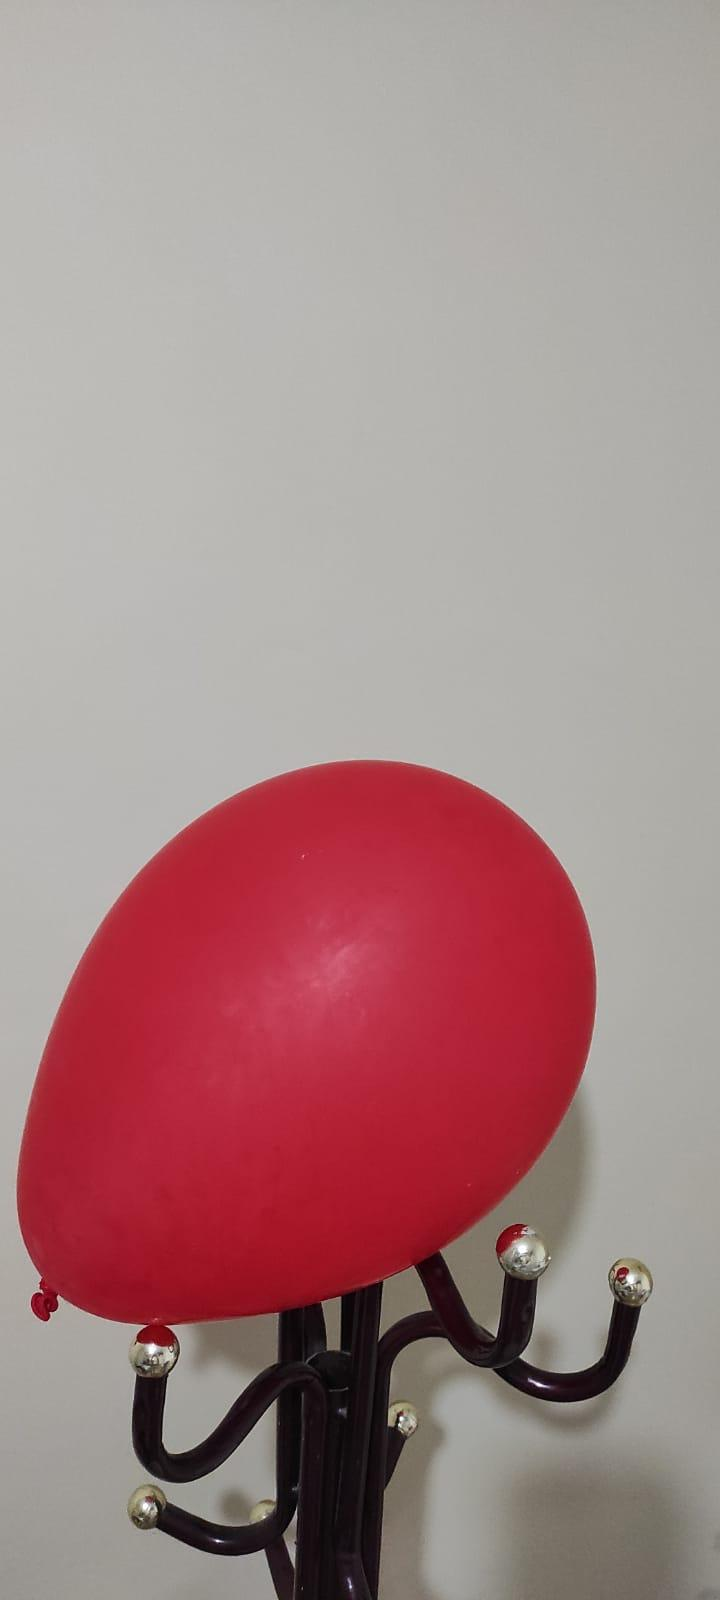red: (10, 744, 614, 1349)
